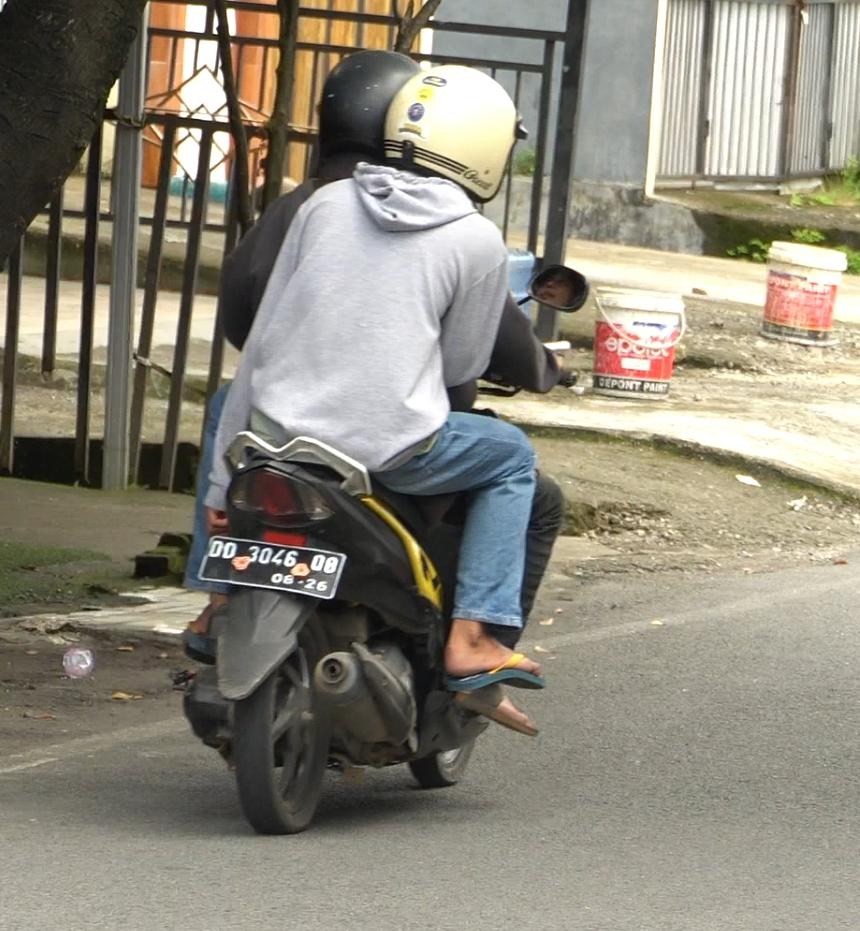number-plate: (197, 532, 345, 602)
